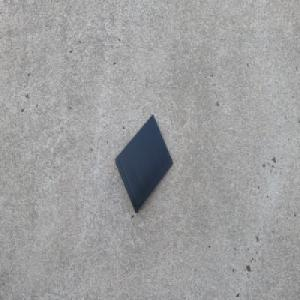PlasticPart: (113, 112, 173, 214)
